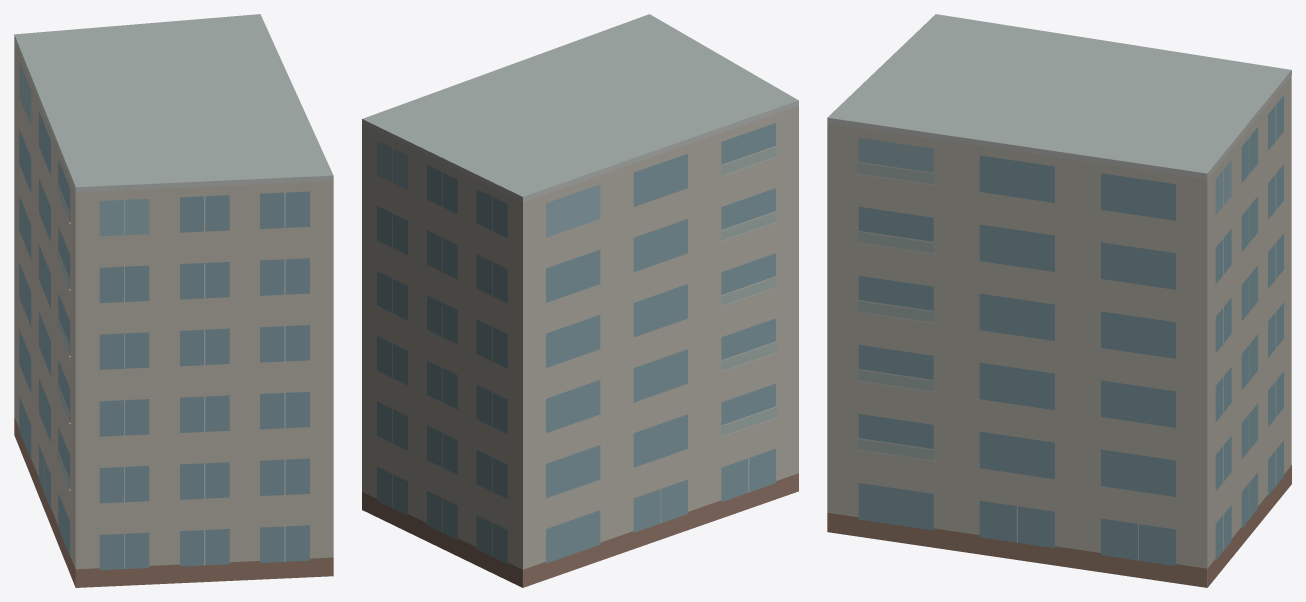
The model's file is survey-upis-32538062.glb.
3 renders of one model, left to right at view 1: azimuth 30°, elevation 25°; view 2: azimuth 150°, elevation 25°; view 3: azimuth 270°, elevation 25°, orthographic. The views are drawn at different scales.
Parts seen in each view (by area): view 1: survey-upis-32538062.tmp; view 2: survey-upis-32538062.tmp; view 3: survey-upis-32538062.tmp.
Boxes of the visible parts, x1,y1,x2,y2 form: survey-upis-32538062.tmp: (14,14,333,587); survey-upis-32538062.tmp: (362,14,798,587); survey-upis-32538062.tmp: (827,14,1291,587).
Bounding box in the file's own units: 14.96 × 18.1 × 18.4.
